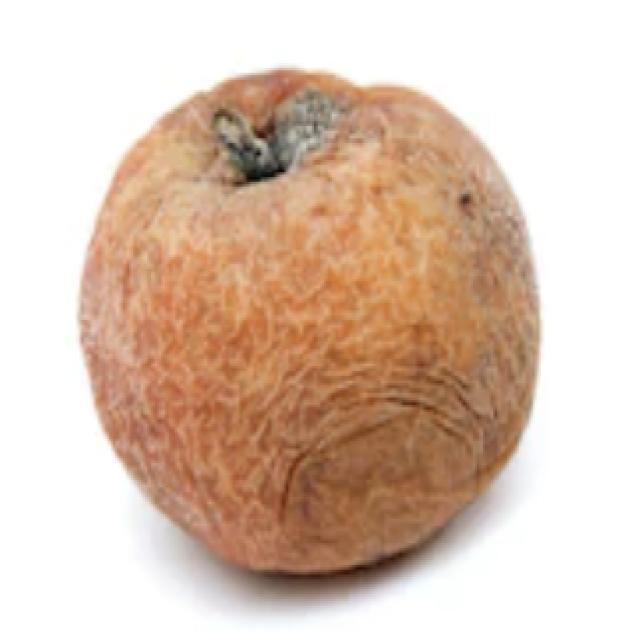Rotten: (85, 71, 550, 592)
